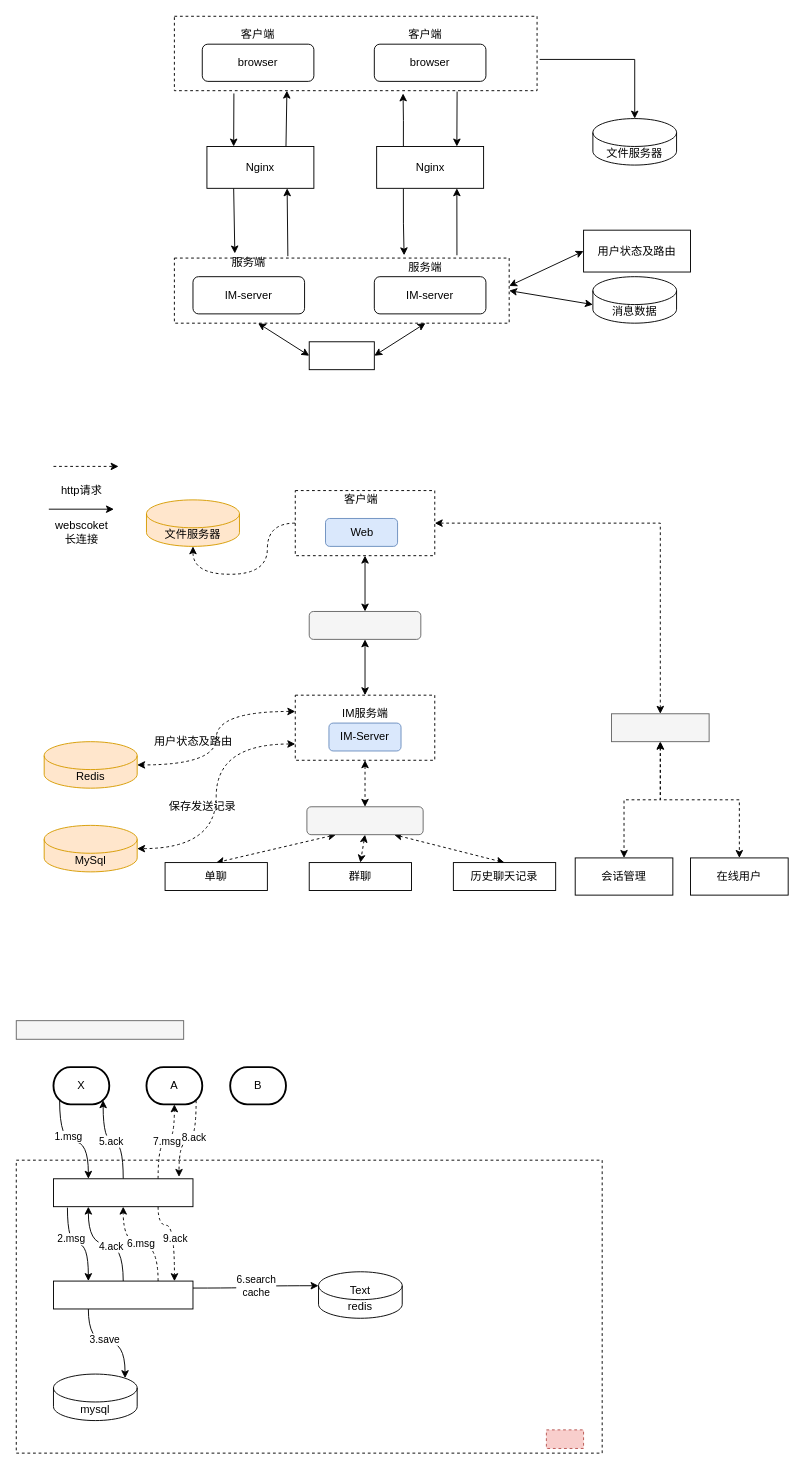
Some shapes in this 804 by 1469 pixel diagram are drawn without their labels. Here are the shapes that lost their labels. From the top down, the centre of each, then its label:
the point at 341,355: MQ
the point at 364,625: websocket-nginx
the point at 660,727: Rest-api
the point at 364,820: RocketMQ
the point at 99,1029: X发送消息给群组，A在线B离线
the point at 123,1192: msg_nginx
the point at 123,1294: msg_server
the point at 564,1438: IM系统
